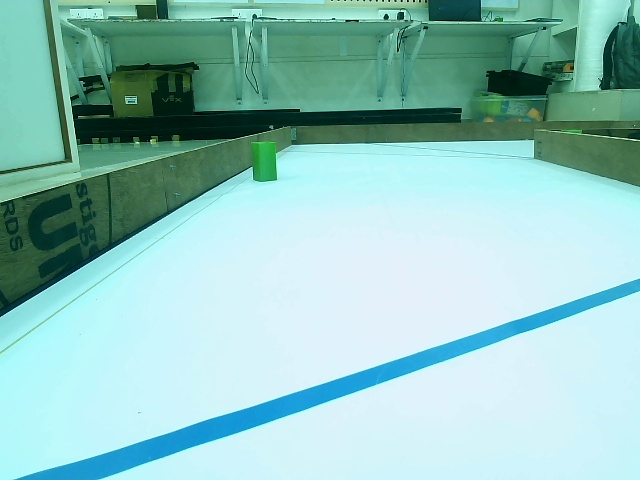green: (253, 141, 279, 181)
